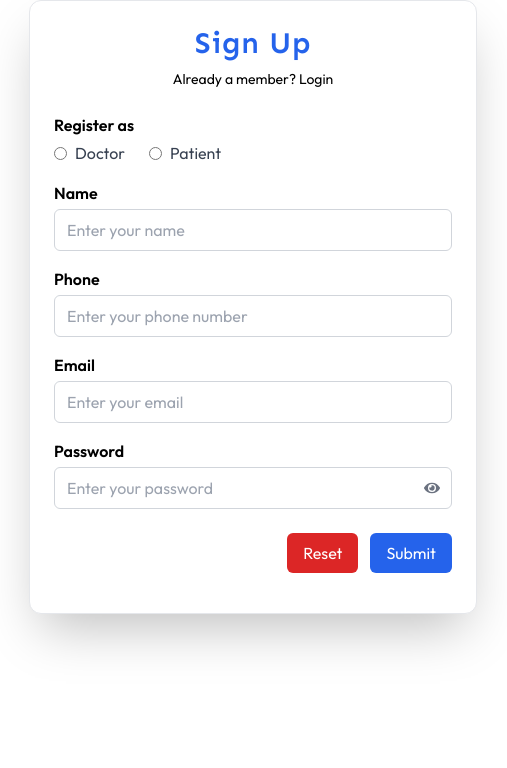
Scenario: shows doctor fields when Doctor role is selected
The width and height of the screenshot is (507, 768).
Click the radio button labelled "Doctor" at x=60, y=153, box [54,146,67,160]
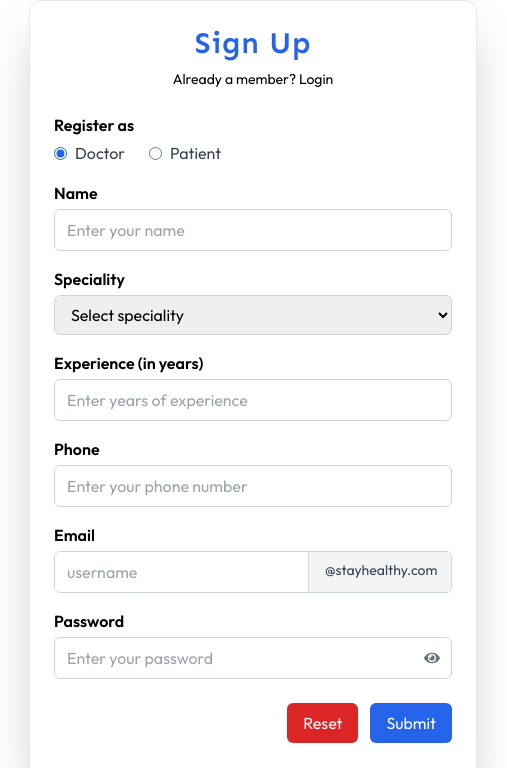
Result: the dropdown labelled "Speciality" is shown at [54,295,452,335]
Result: the number field labelled "Experience (in years)" is shown at [54,379,452,421]
